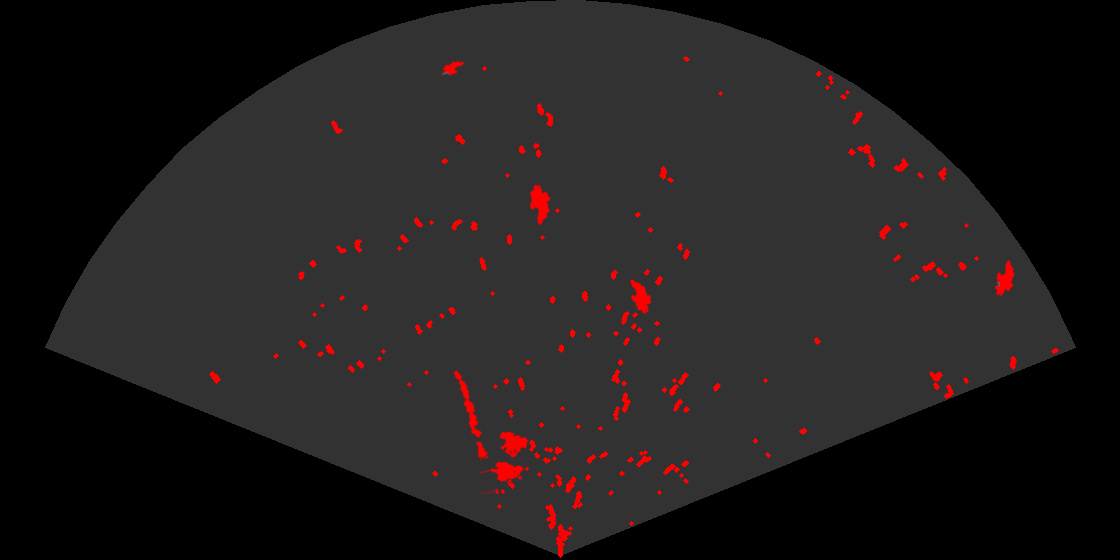AUV: (528, 183, 552, 227), (628, 277, 653, 316), (993, 258, 1017, 298), (440, 56, 466, 77)
cage: (480, 430, 531, 494)
chain: (452, 368, 490, 462)
